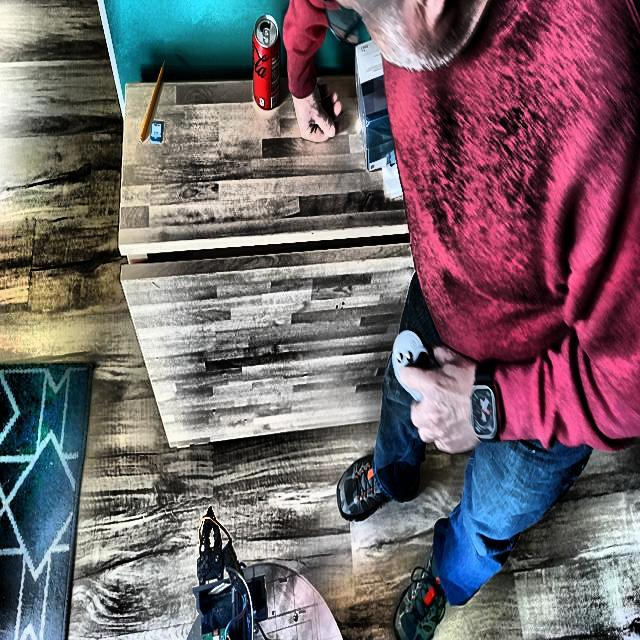CokeZero-can: (252, 14, 284, 111)
